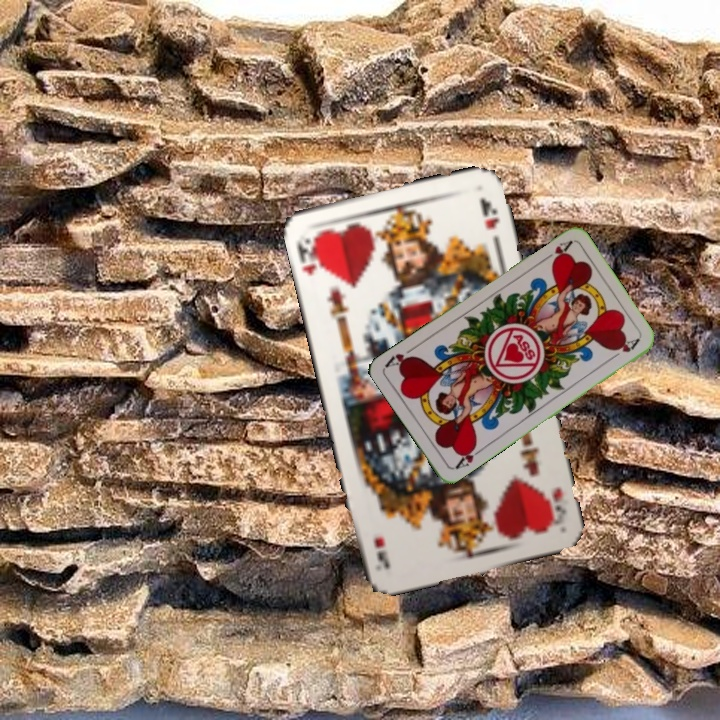HA: (451, 440, 486, 472), (538, 236, 575, 266)
HK: (292, 232, 325, 277), (542, 482, 569, 524)
